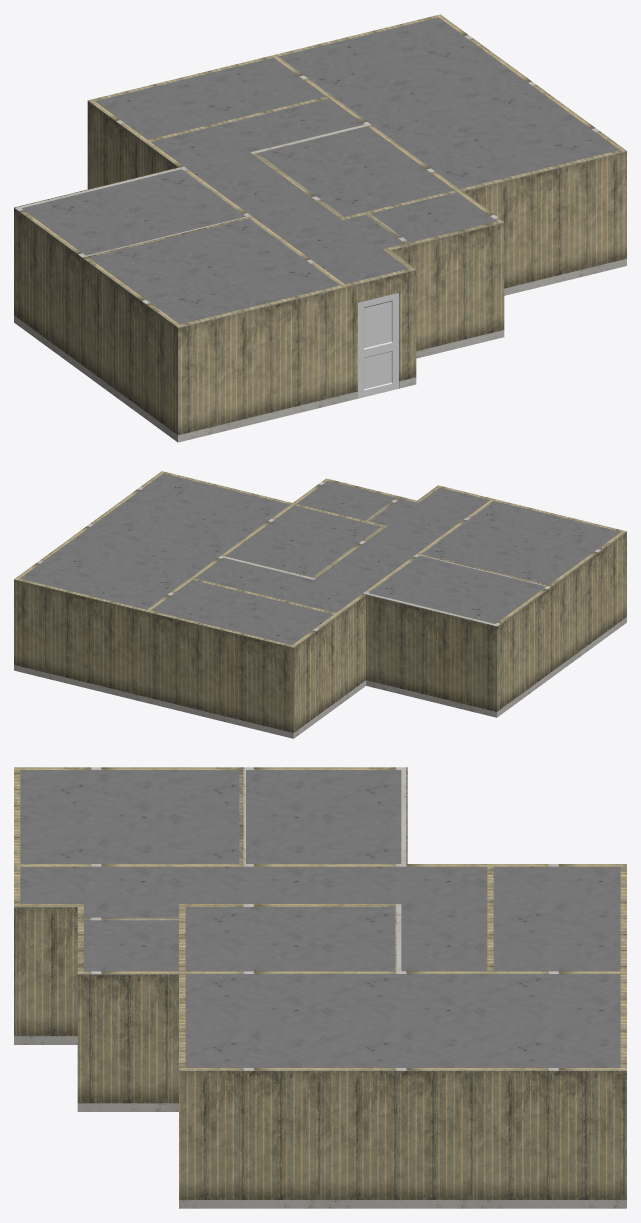
The model's file is Apartment.glb.
The picture shows the model from 3 angles, top to bottom: view 1: azimuth 30°, elevation 25°; view 2: azimuth 150°, elevation 25°; view 3: azimuth 270°, elevation 25°; orthographic projection. The views are drawn at different scales.
Visible parts, largest first — view 1: Ceilings, Walls, Door.005; view 2: Walls, Ceilings; view 3: Ceilings, Walls.
Part boxes in pixels (x1,y1,x2,y2): Ceilings: [21, 17, 618, 324]; Walls: [14, 14, 626, 442]; Door.005: [358, 293, 398, 398]; Walls: [14, 471, 626, 738]; Ceilings: [20, 473, 620, 644]; Ceilings: [20, 770, 620, 1067]; Walls: [14, 767, 626, 1208].
Size of the model in its own units: 11.3 by 2.4 by 9.65.
Materials: 6 (5 with a texture image).
